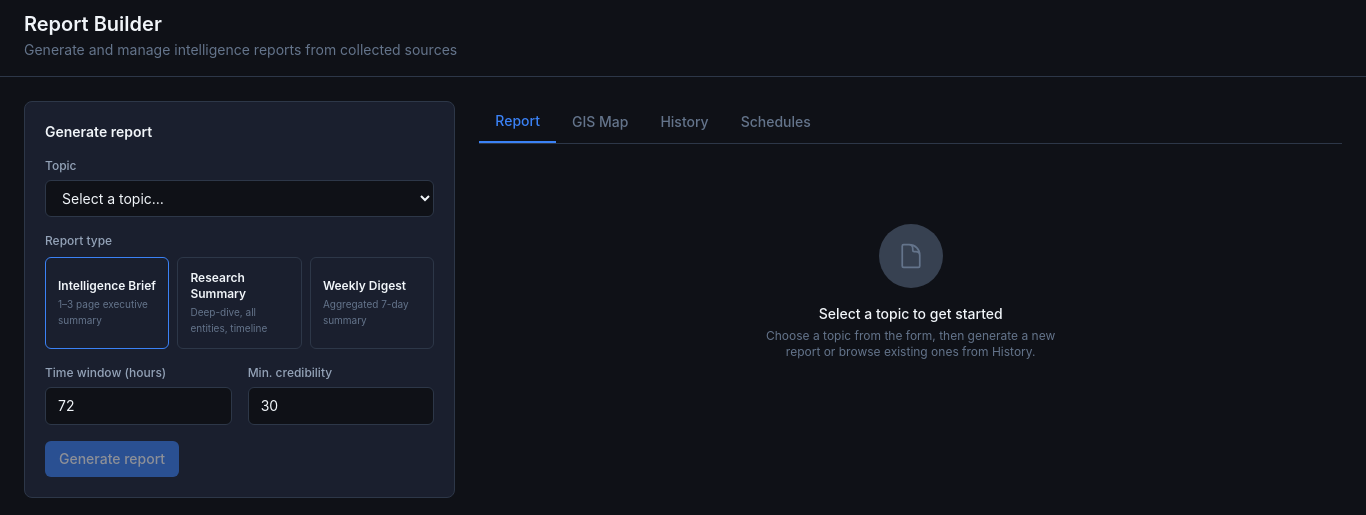
Test: ReportBuilder page › shows schedule manager content when Schedules tab is clicked
Select "Ukraine conflict" in the dropdown labelled "Topic" at [240, 198], box [45, 180, 434, 217]
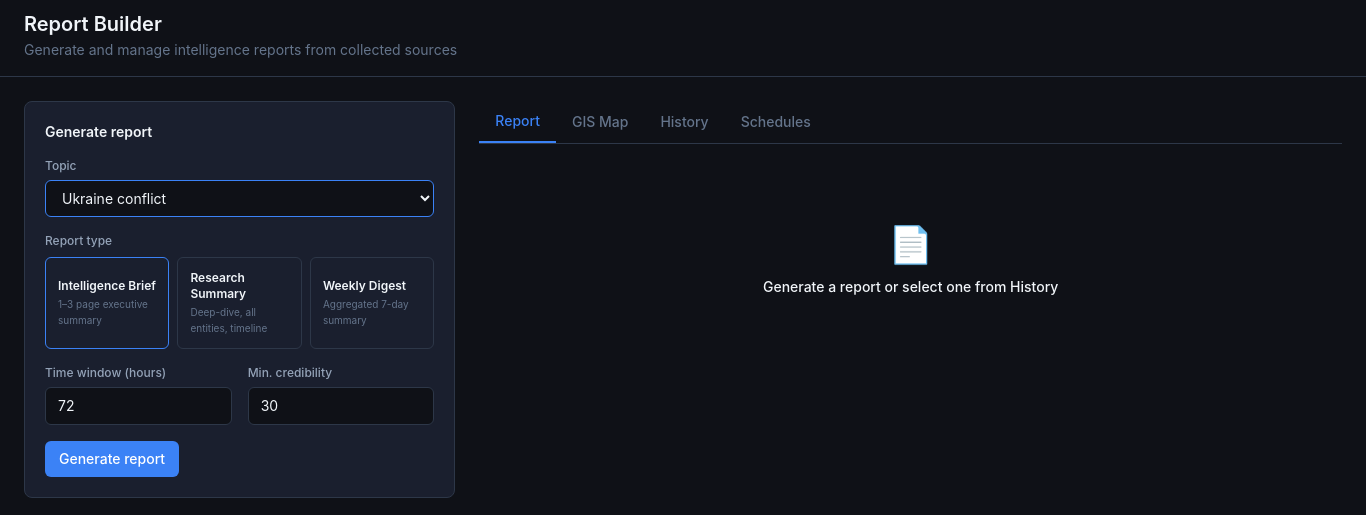
Click the tab "Schedules".
click(776, 122)  # box [725, 101, 827, 143]
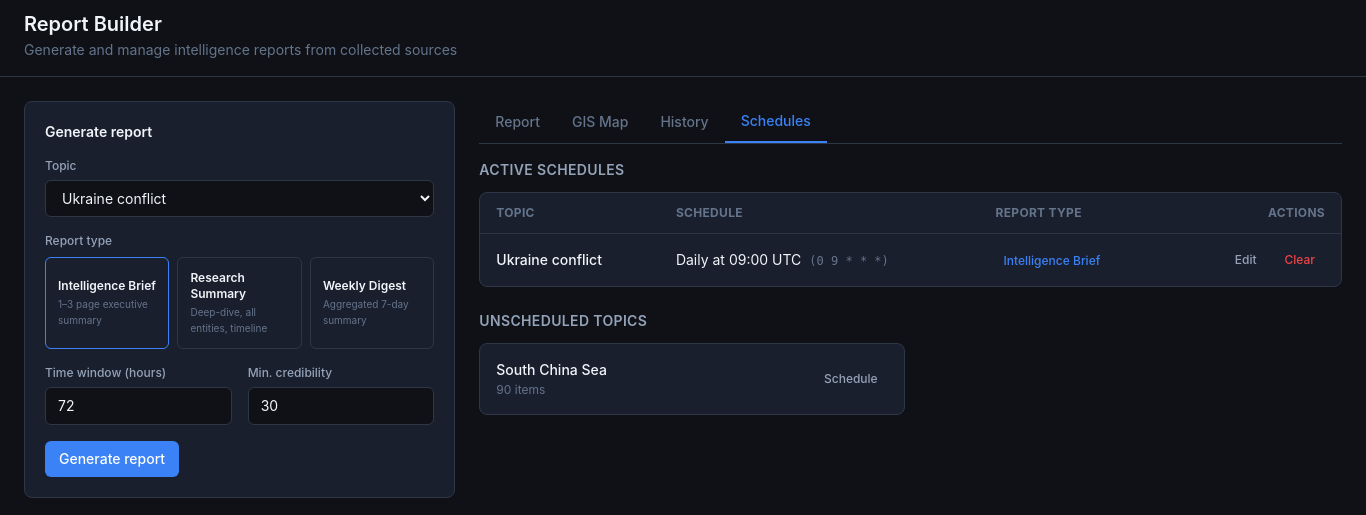
expect the heading "Active Schedules" is shown: met, box [479, 161, 624, 178]
